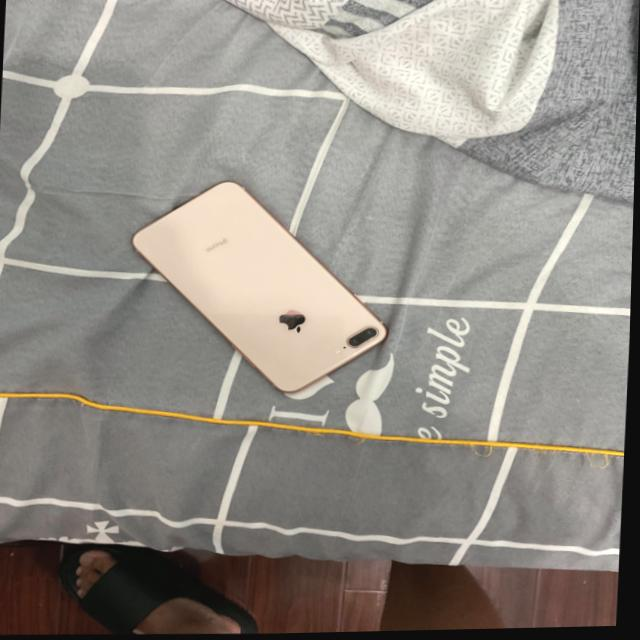Smartphone: (99, 163, 410, 415)
